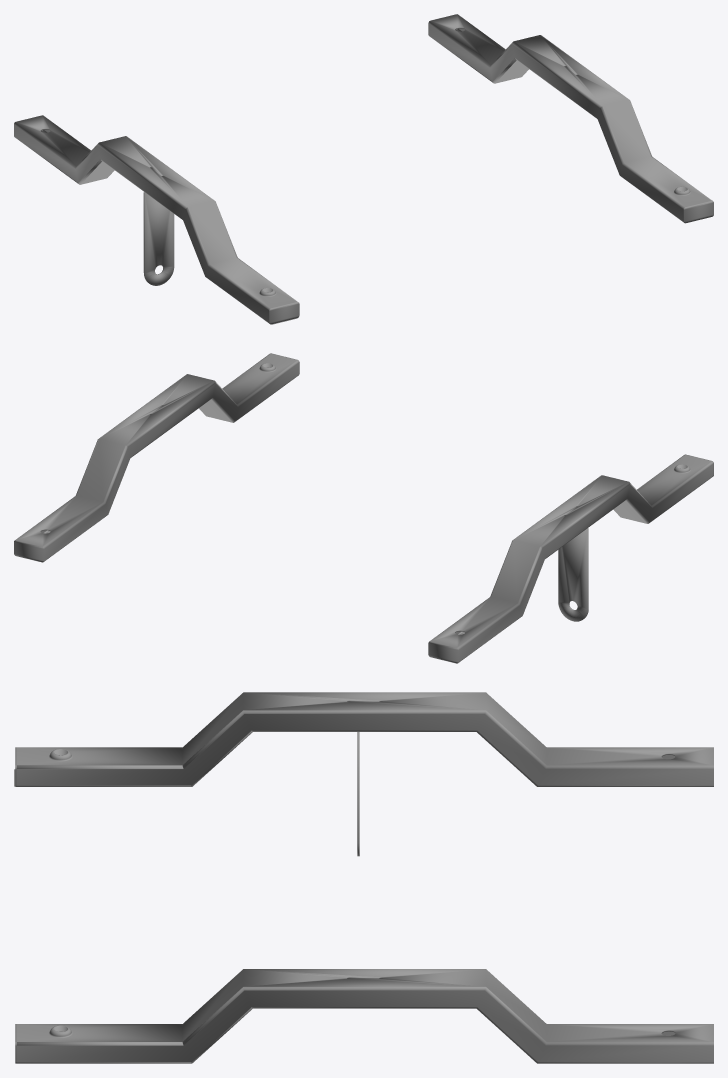
3 views of the same model, one above another, from view 1: azimuth 30°, elevation 25°; view 2: azimuth 150°, elevation 25°; view 3: azimuth 270°, elevation 25° (orthographic). The views are drawn at different scales.
Parts seen in each view (by area): view 1: base_link.003; view 2: base_link.003; view 3: base_link.003.
Boxes of the visible parts, <box> form: base_link.003: <box>14,14,713,324</box>; base_link.003: <box>14,353,713,663</box>; base_link.003: <box>14,692,713,1063</box>.
Size of the model in its own units: 1.5 by 1.5 by 0.3607.
1 material, 1 textured.
